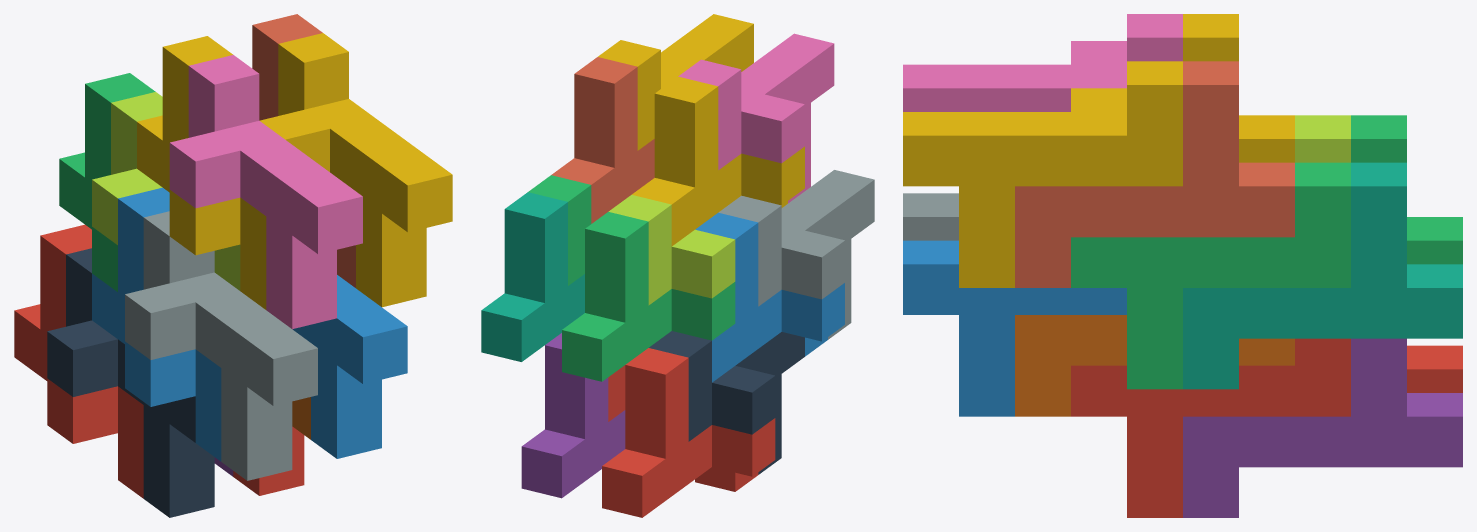
File: tiling.obj
The picture shows the model from 3 angles, left to right: view 1: azimuth 30°, elevation 25°; view 2: azimuth 150°, elevation 25°; view 3: azimuth 270°, elevation 25°; orthographic projection. The views are drawn at different scales.
Parts seen in each view (by area): view 1: copy_2_domain_4, copy_2_domain_2, copy_2_domain_8, copy_2_domain_1, copy_2_domain_6, copy_1_domain_4, copy_1_domain_1, copy_1_domain_2, copy_1_domain_3, copy_2_domain_3, copy_1_domain_8, copy_2_domain_5 (+1 smaller); view 2: copy_1_domain_1, copy_1_domain_3, copy_1_domain_4, copy_2_domain_2, copy_2_domain_4, copy_1_domain_7, copy_1_domain_8, copy_1_domain_5, copy_2_domain_1, copy_1_domain_2, copy_2_domain_8, copy_2_domain_3 (+2 smaller); view 3: copy_2_domain_8, copy_1_domain_8, copy_1_domain_7, copy_2_domain_7, copy_1_domain_5, copy_2_domain_5, copy_2_domain_6, copy_2_domain_4, copy_1_domain_6, copy_1_domain_3, copy_1_domain_4, copy_1_domain_1 (+2 smaller).
Part boxes in pixels (x1=…): copy_2_domain_4: x1=169, y1=55, x2=362, y2=329; copy_2_domain_2: x1=125, y1=211, x2=317, y2=480; copy_2_domain_8: x1=260, y1=33, x2=452, y2=307; copy_2_domain_1: x1=47, y1=248, x2=214, y2=517; copy_2_domain_6: x1=292, y1=275, x2=407, y2=458; copy_1_domain_4: x1=137, y1=36, x2=266, y2=309; copy_1_domain_1: x1=14, y1=224, x2=143, y2=498; copy_1_domain_2: x1=92, y1=187, x2=221, y2=461; copy_1_domain_3: x1=59, y1=73, x2=155, y2=291; copy_2_domain_3: x1=92, y1=92, x2=240, y2=290; copy_1_domain_8: x1=252, y1=14, x2=355, y2=287; copy_2_domain_5: x1=233, y1=426, x2=304, y2=495; copy_1_domain_1: x1=602, y1=348, x2=775, y2=517; copy_1_domain_3: x1=562, y1=212, x2=735, y2=381; copy_1_domain_4: x1=632, y1=76, x2=804, y2=246; copy_2_domain_2: x1=718, y1=170, x2=874, y2=339; copy_2_domain_4: x1=678, y1=33, x2=834, y2=203; copy_1_domain_7: x1=481, y1=192, x2=584, y2=361; copy_1_domain_8: x1=551, y1=57, x2=654, y2=223; copy_1_domain_5: x1=521, y1=333, x2=625, y2=498; copy_2_domain_1: x1=649, y1=331, x2=804, y2=474; copy_1_domain_2: x1=695, y1=212, x2=844, y2=382; copy_2_domain_8: x1=598, y1=14, x2=753, y2=150; copy_2_domain_3: x1=608, y1=194, x2=735, y2=305; copy_2_domain_8: x1=903, y1=61, x2=1182, y2=287; copy_1_domain_8: x1=1015, y1=61, x2=1294, y2=287; copy_1_domain_7: x1=1183, y1=162, x2=1462, y2=389; copy_2_domain_7: x1=1071, y1=162, x2=1350, y2=389; copy_1_domain_5: x1=1183, y1=338, x2=1462, y2=517; copy_2_domain_5: x1=1071, y1=338, x2=1350, y2=517; copy_2_domain_6: x1=903, y1=240, x2=1126, y2=416; copy_2_domain_4: x1=903, y1=14, x2=1182, y2=111; copy_1_domain_6: x1=1015, y1=315, x2=1294, y2=416; copy_1_domain_3: x1=1351, y1=115, x2=1462, y2=264; copy_1_domain_4: x1=1183, y1=14, x2=1294, y2=162; copy_1_domain_1: x1=1407, y1=345, x2=1462, y2=392.
Size of the model in its own units: 5 by 9 by 10.
